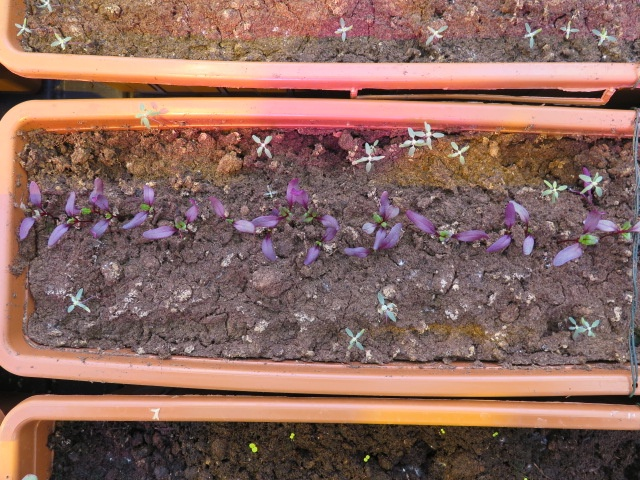crop: (406, 200, 486, 249), (546, 206, 602, 273), (139, 195, 200, 255), (343, 183, 387, 263), (374, 181, 412, 266), (249, 178, 286, 264), (301, 205, 337, 275), (42, 189, 77, 259), (481, 192, 517, 259), (118, 180, 153, 248), (211, 186, 255, 239), (503, 194, 537, 257), (19, 178, 46, 250), (87, 166, 110, 248), (286, 174, 308, 222), (600, 219, 640, 240)
weed: (419, 19, 456, 52), (62, 283, 96, 318), (443, 136, 474, 168), (341, 321, 369, 354), (518, 18, 546, 51), (589, 22, 623, 49), (248, 129, 277, 160), (540, 175, 572, 203), (330, 16, 357, 45), (46, 29, 73, 53), (556, 18, 580, 43), (11, 15, 34, 41), (243, 439, 257, 454), (284, 427, 297, 441), (489, 426, 501, 440), (361, 450, 372, 464)
